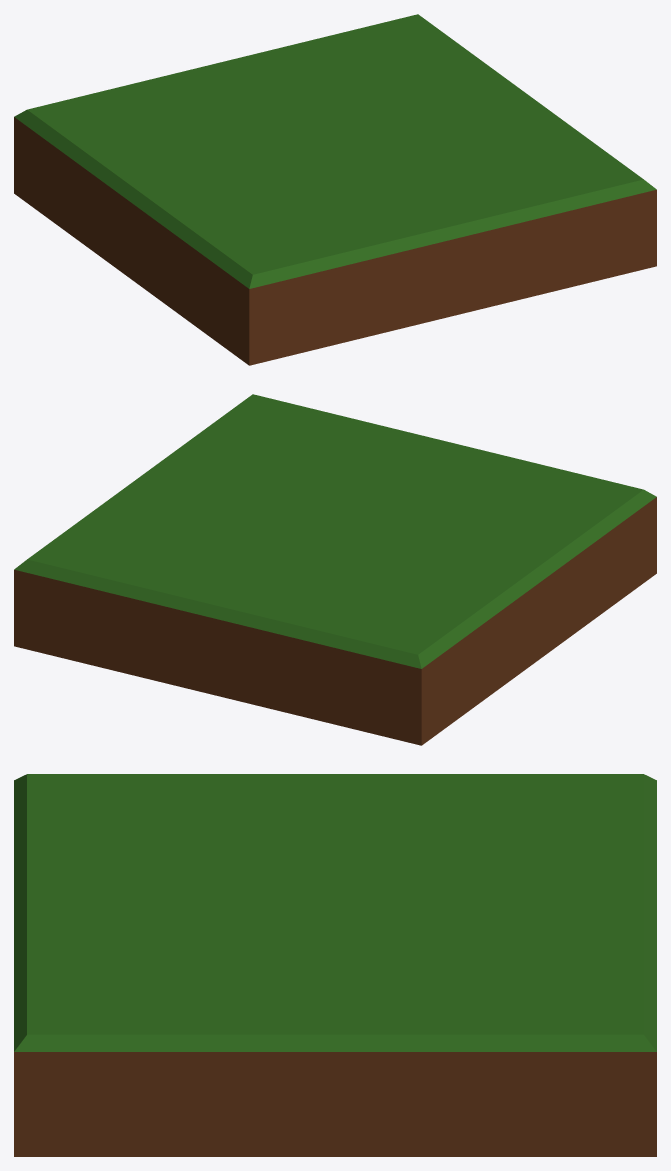
File: Tile_Base.fbx
3 views of the same model, one above another, from view 1: azimuth 30°, elevation 25°; view 2: azimuth 150°, elevation 25°; view 3: azimuth 270°, elevation 25° (orthographic). The views are drawn at different scales.
Parts seen in each view (by area): view 1: SM_Tile_Base; view 2: SM_Tile_Base; view 3: SM_Tile_Base.
Boxes of the visible parts, x1,y1,x2,y2 form: SM_Tile_Base: (14, 14, 656, 365); SM_Tile_Base: (14, 394, 656, 745); SM_Tile_Base: (14, 774, 656, 1156).
Bounding box in the file's own units: 100 × 100 × 20.02.
